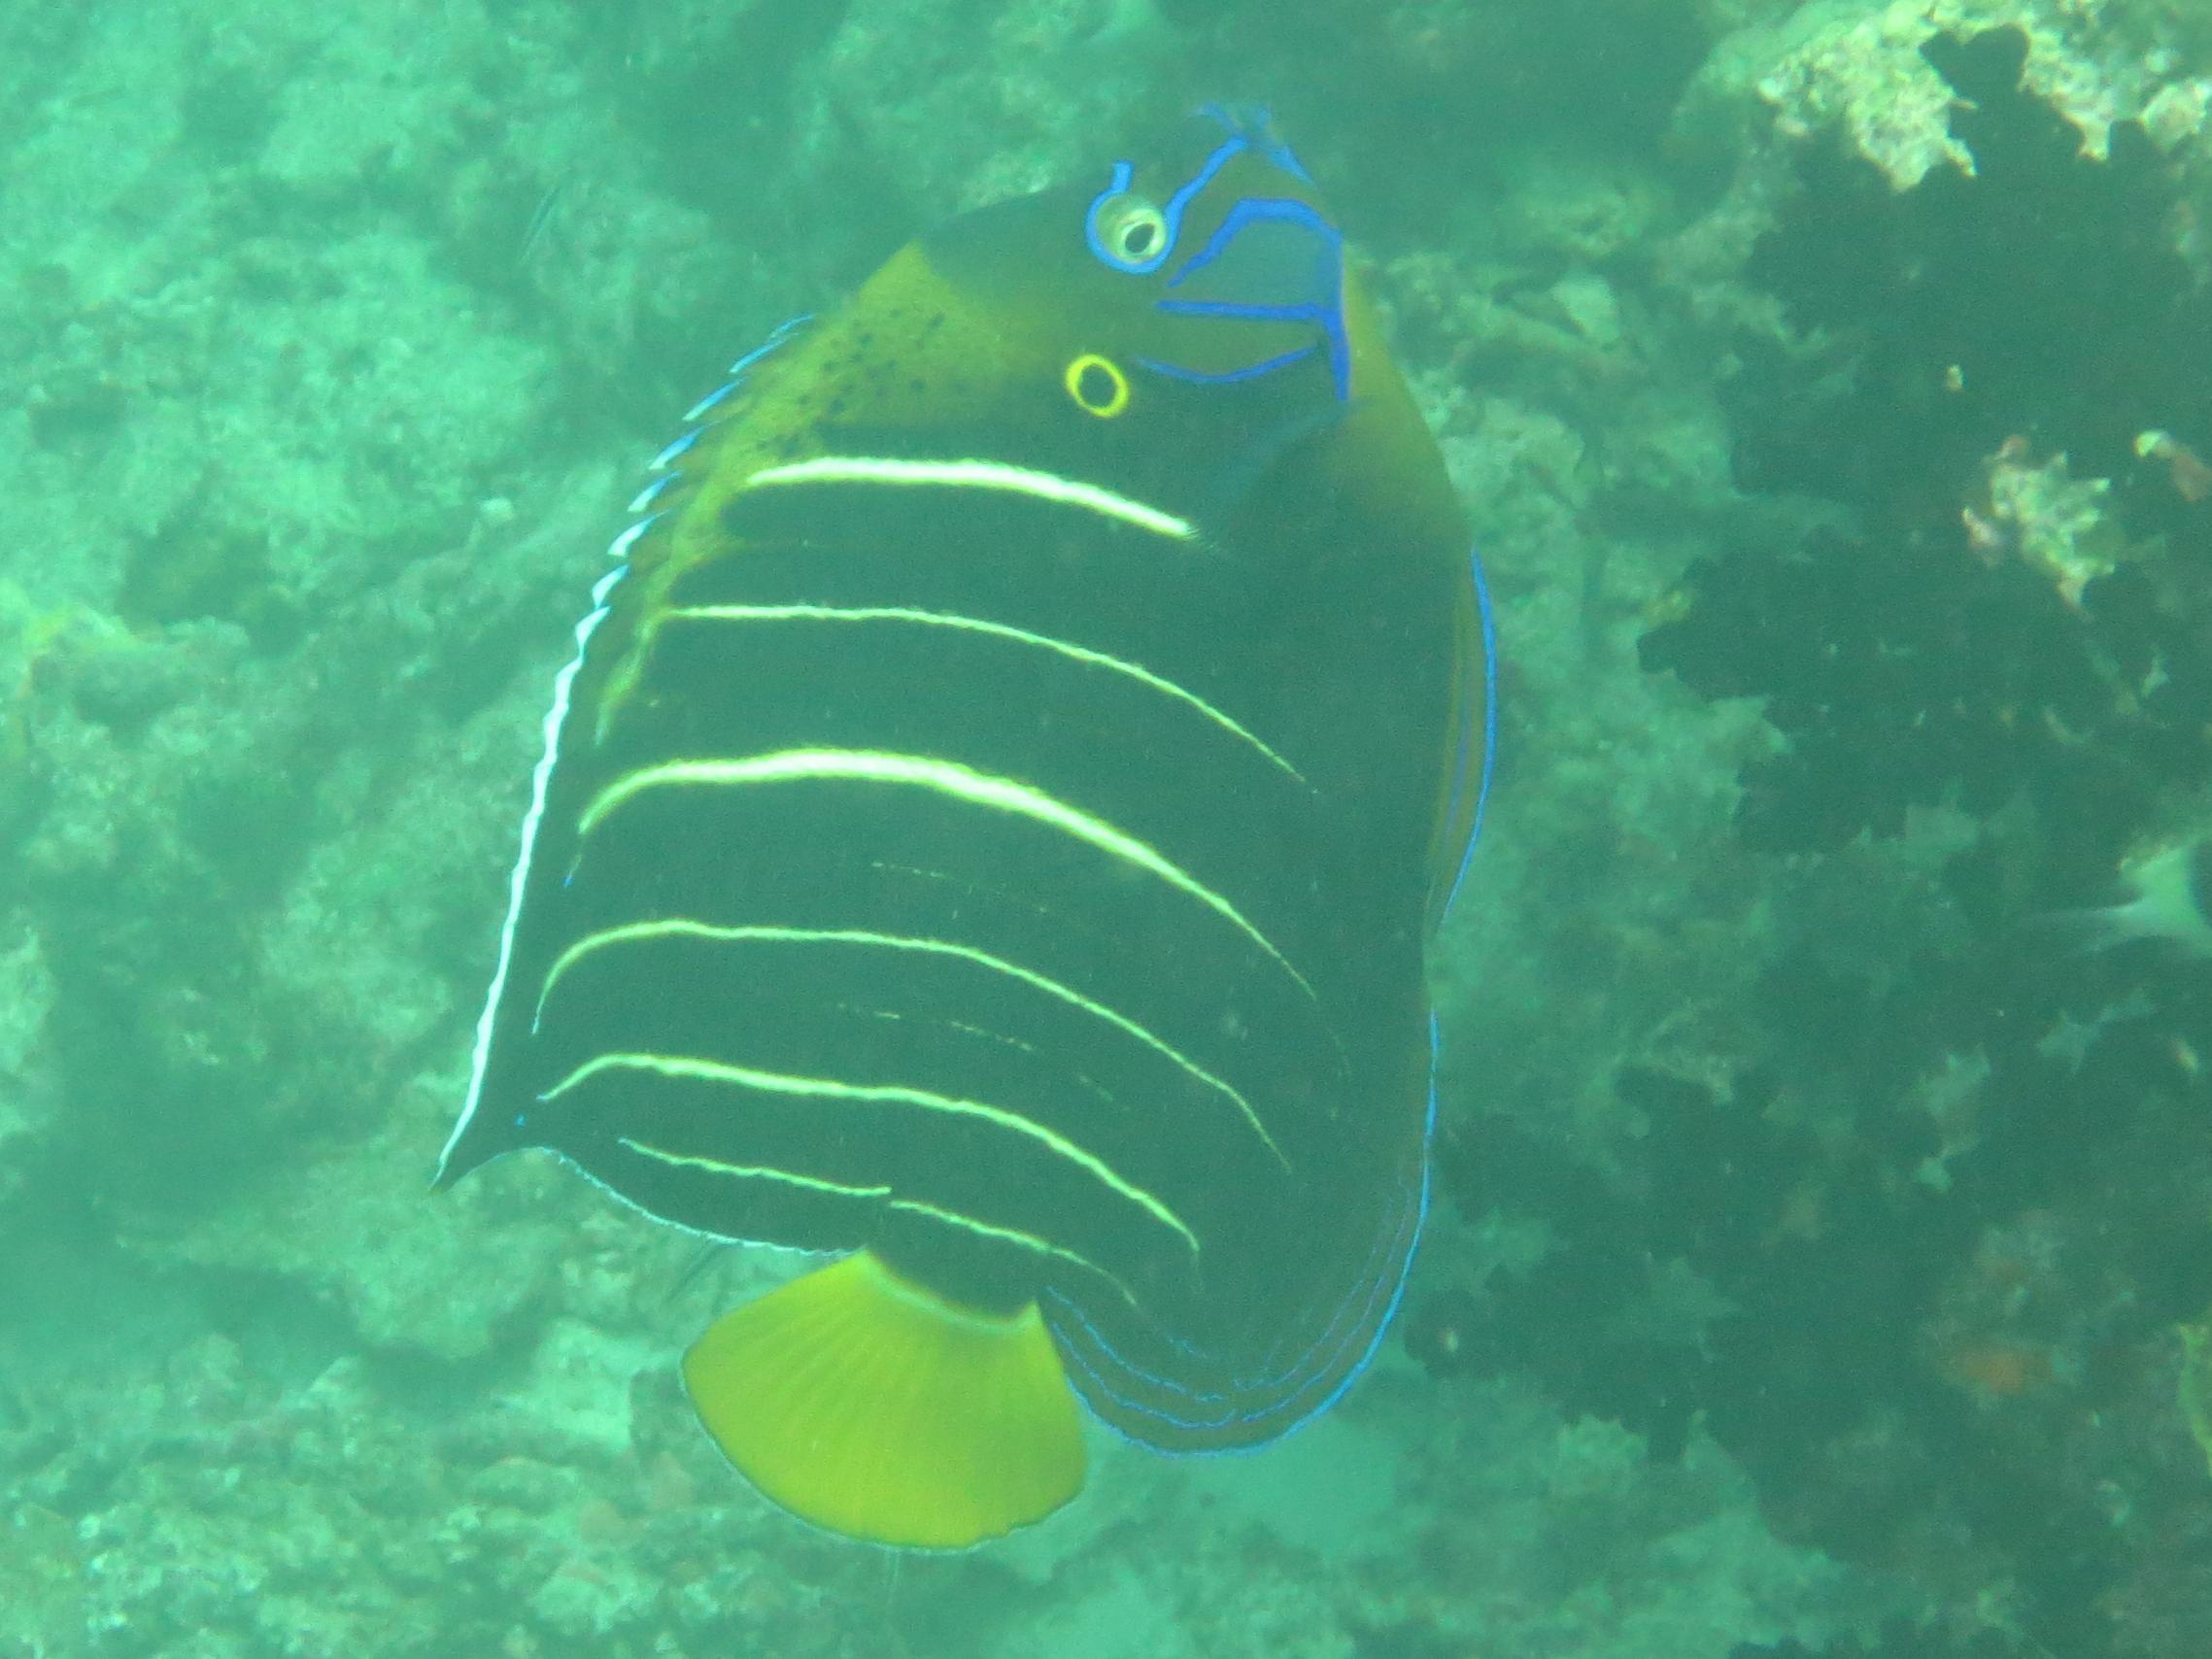Fish: (399, 78, 1588, 1596)
